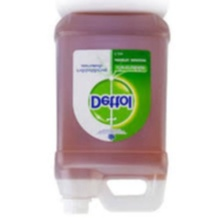cleaning_solution: (53, 7, 173, 219)
